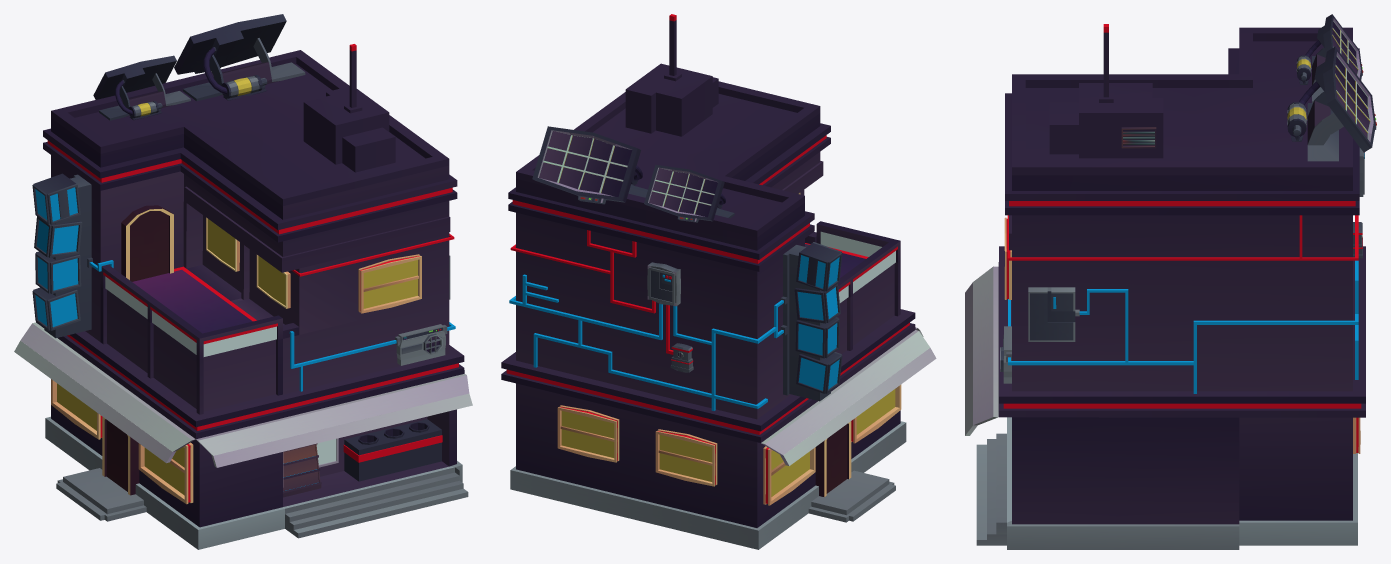
The model's file is House_NeoHouse03.fbx.
3 renders of one model, left to right at view 1: azimuth 30°, elevation 25°; view 2: azimuth 150°, elevation 25°; view 3: azimuth 270°, elevation 25°, orthographic. The views are drawn at different scales.
Parts seen in each view (by area): view 1: CubeHome; view 2: CubeHome; view 3: CubeHome.
Part boxes in pixels (x1,y1,x2,y2): CubeHome: [14, 14, 472, 549]; CubeHome: [501, 14, 936, 549]; CubeHome: [965, 14, 1376, 549].
Bounding box in the file's own units: 662 × 872 × 668.
